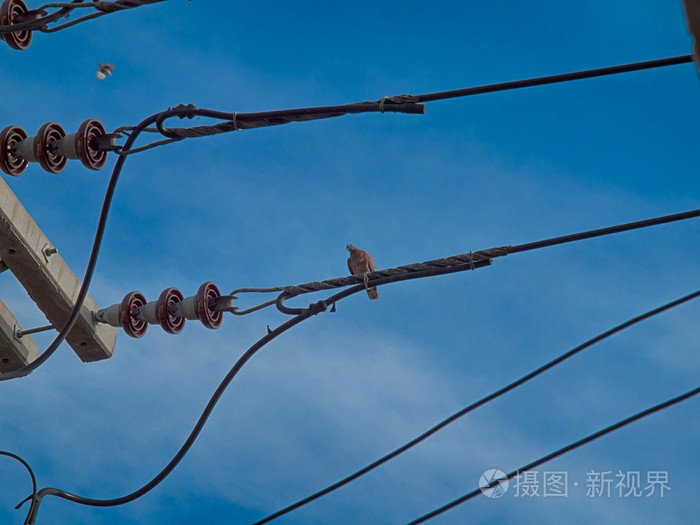insulator: (1, 116, 113, 180), (121, 281, 226, 341), (1, 1, 38, 56)
